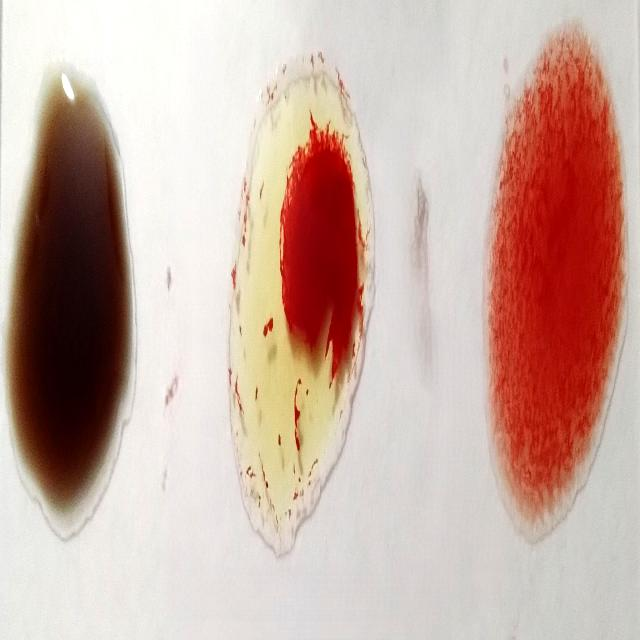B: (240, 32, 363, 568)
D: (493, 46, 616, 545)
